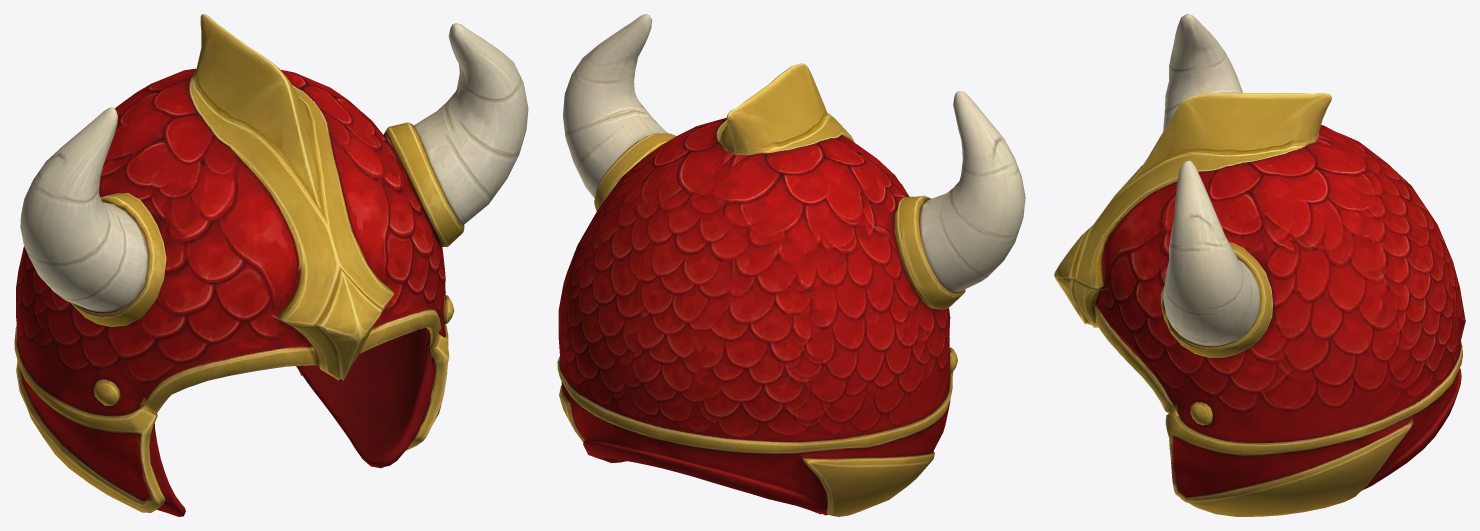
File: hat_dragon.glb
The picture shows the model from 3 angles, left to right: view 1: azimuth 30°, elevation 25°; view 2: azimuth 150°, elevation 25°; view 3: azimuth 270°, elevation 25°; orthographic projection. The views are drawn at different scales.
Bounding box in the file's own units: 0.9575 × 0.7959 × 0.7857.
1 material, 1 textured.
